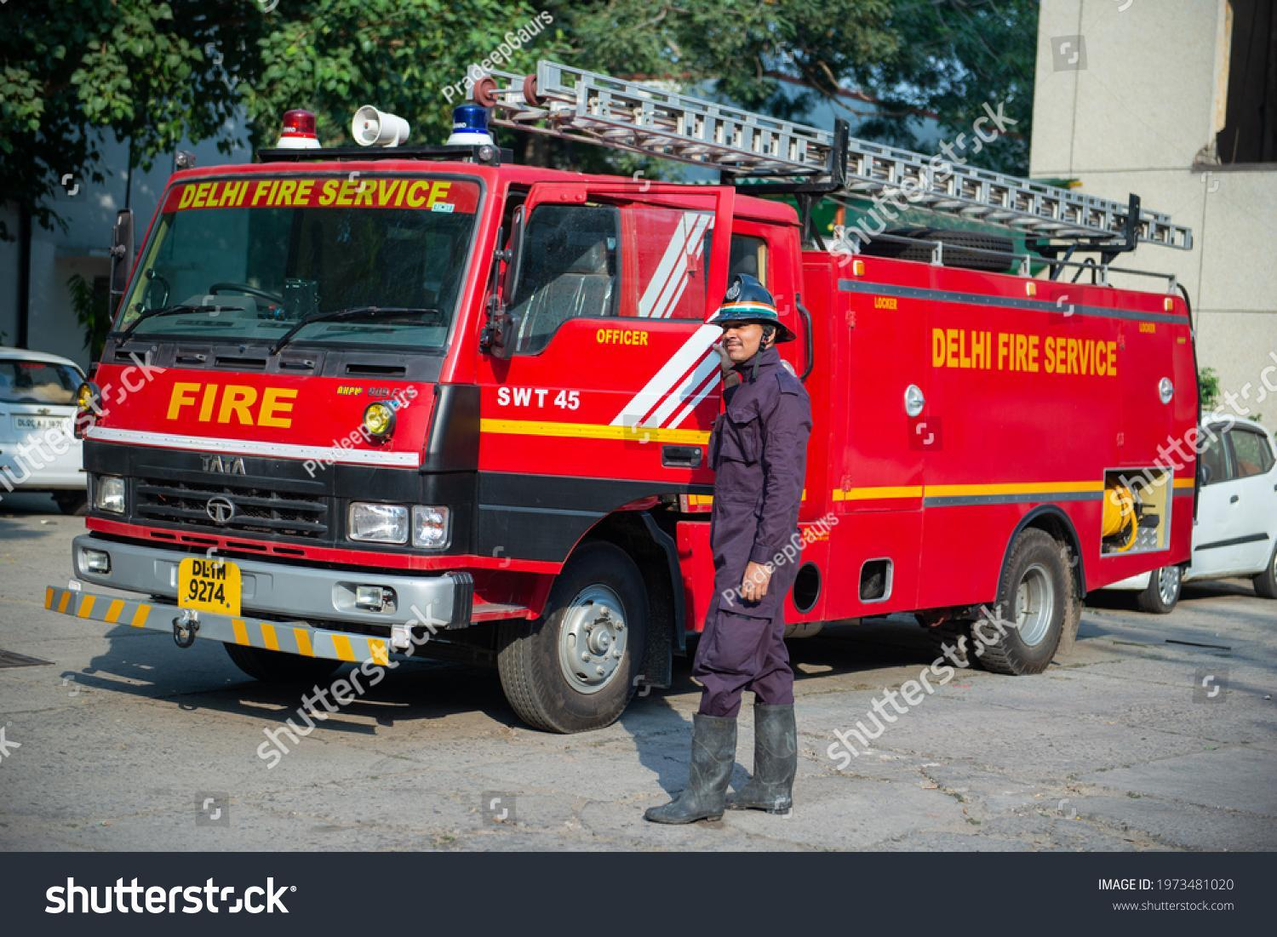Fire-engine: (37, 45, 1215, 735)
